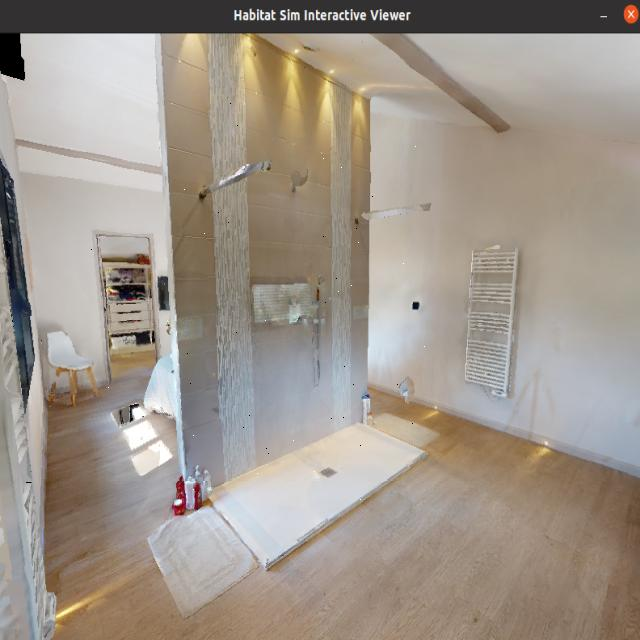chair: (43, 316, 110, 431)
door-frame: (91, 226, 164, 402)
shower: (173, 99, 425, 505)
